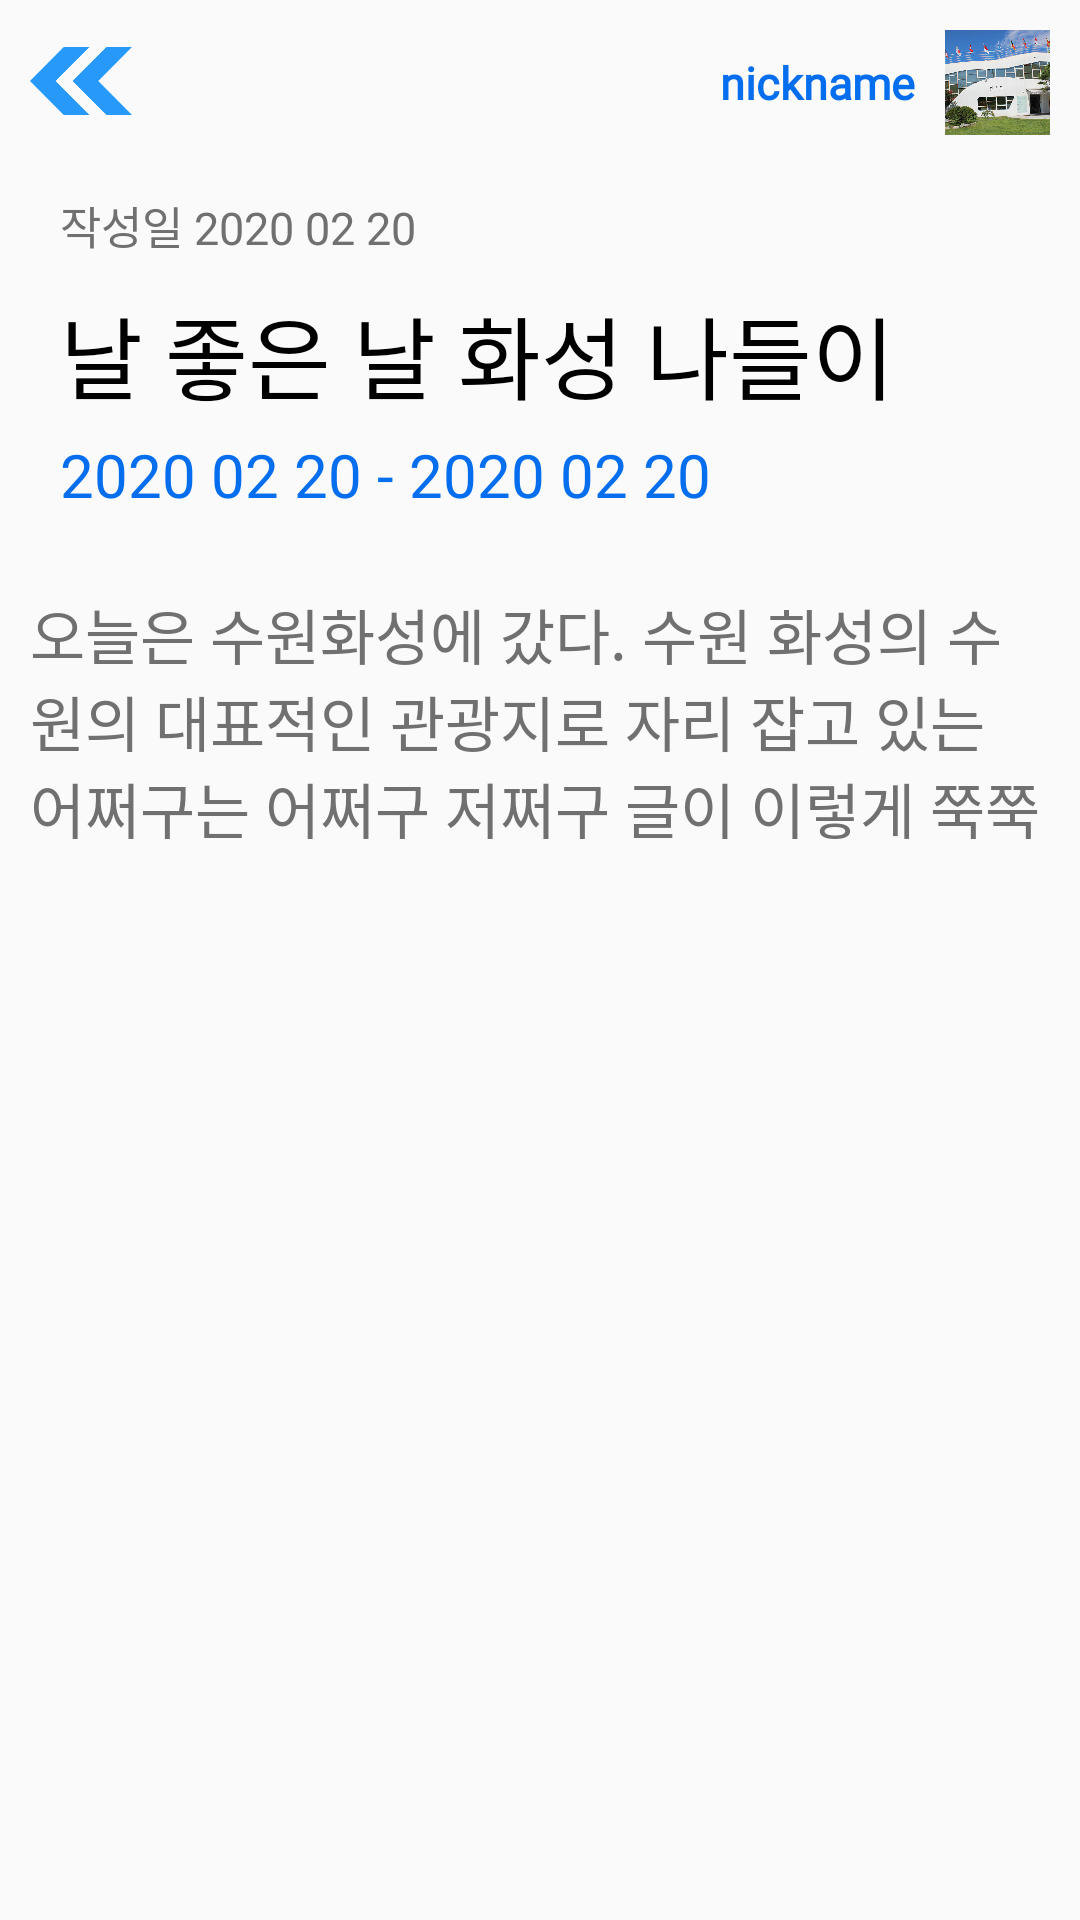

Icon click points for this 1080px×1920px phone screenshot, format (x=x, y=y):
double arrow: (x=81, y=81)
